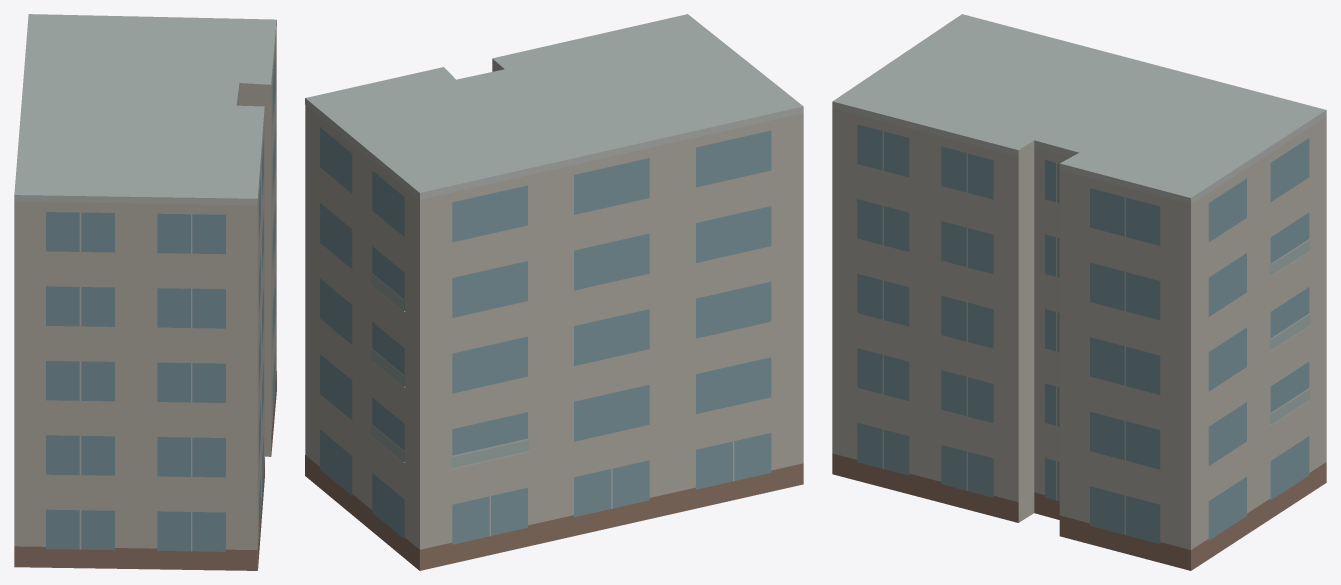
Rendered from survey-upis-32883295.glb.
3 renders of one model, left to right at view 1: azimuth 30°, elevation 25°; view 2: azimuth 150°, elevation 25°; view 3: azimuth 270°, elevation 25°, orthographic.
Visible parts, largest first — view 1: survey-upis-32883295.tmp; view 2: survey-upis-32883295.tmp; view 3: survey-upis-32883295.tmp.
Part boxes in pixels (box(x1,y1,x2,y2)): survey-upis-32883295.tmp: box(14, 14, 276, 570); survey-upis-32883295.tmp: box(305, 14, 803, 570); survey-upis-32883295.tmp: box(832, 14, 1326, 570).
Bounding box in the file's own units: 14.52 × 13.7 × 16.46.
